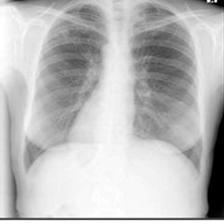tuberculosis: (15, 0, 205, 197)
